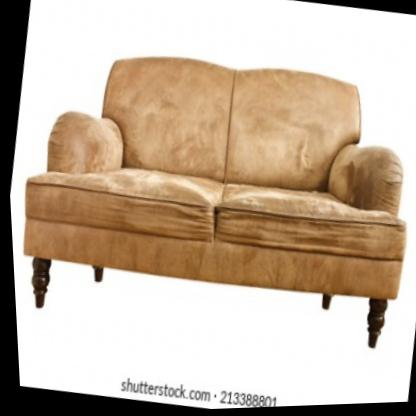Sofa: (1, 22, 416, 361)
